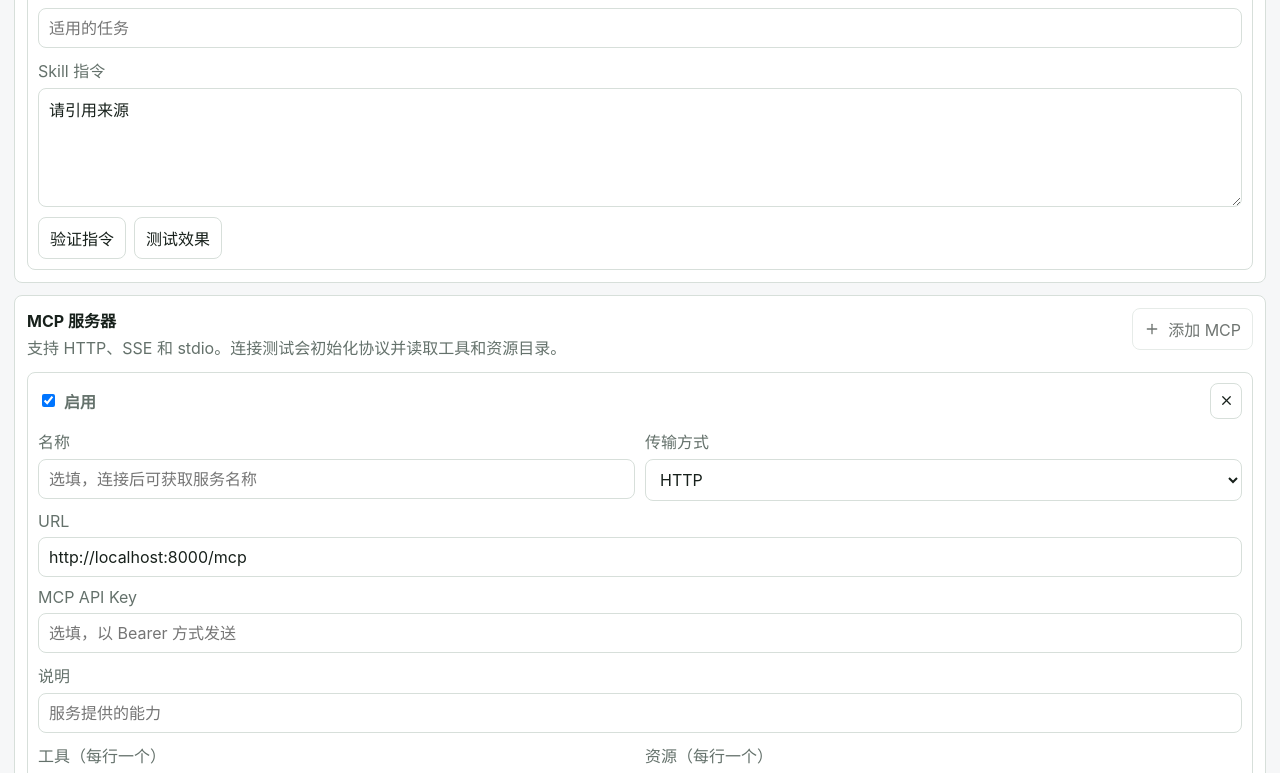
Scenario: settings review regressions › enforces the mcpServers card limit and reopens addition after deletion
The image size is (1280, 773).
(page scrolled)
Expected: the button "添加 MCP" is disabled, x1=1132 y1=308 x2=1253 y2=350
Click the button named "删除 MCP 服务器".
click(1226, 401)  # box x1=1210 y1=383 x2=1242 y2=419
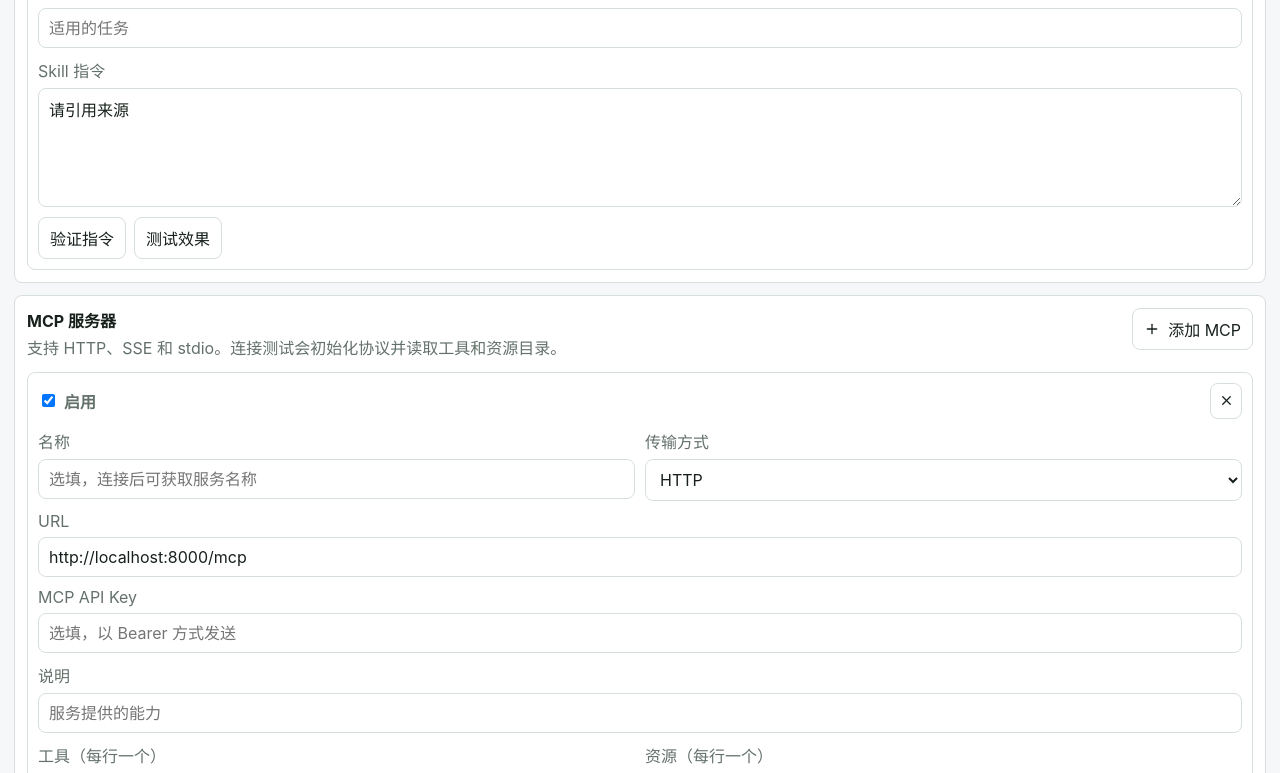
Expected: the button "添加 MCP" is enabled
Click the button "添加 MCP".
click(1193, 329)  # box x1=1132 y1=308 x2=1253 y2=350
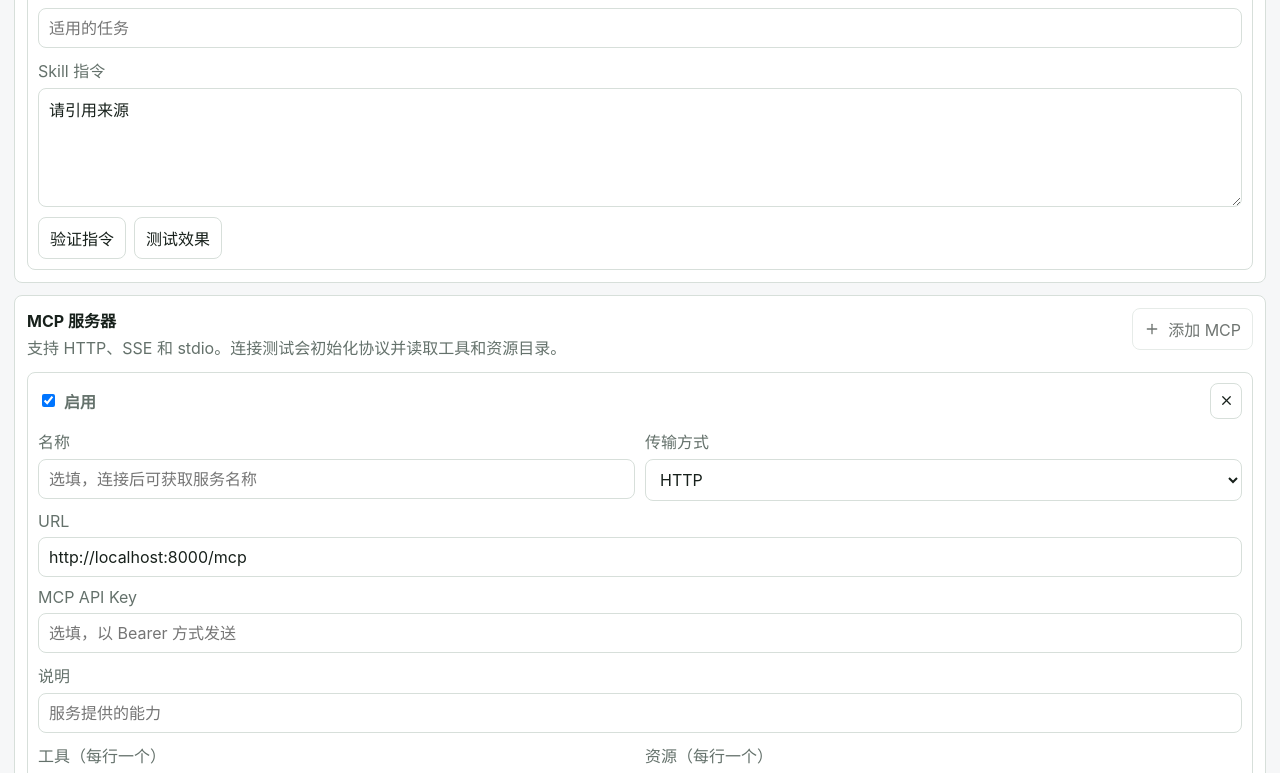
Expected: the button "添加 MCP" is disabled, x1=1132 y1=308 x2=1253 y2=350
